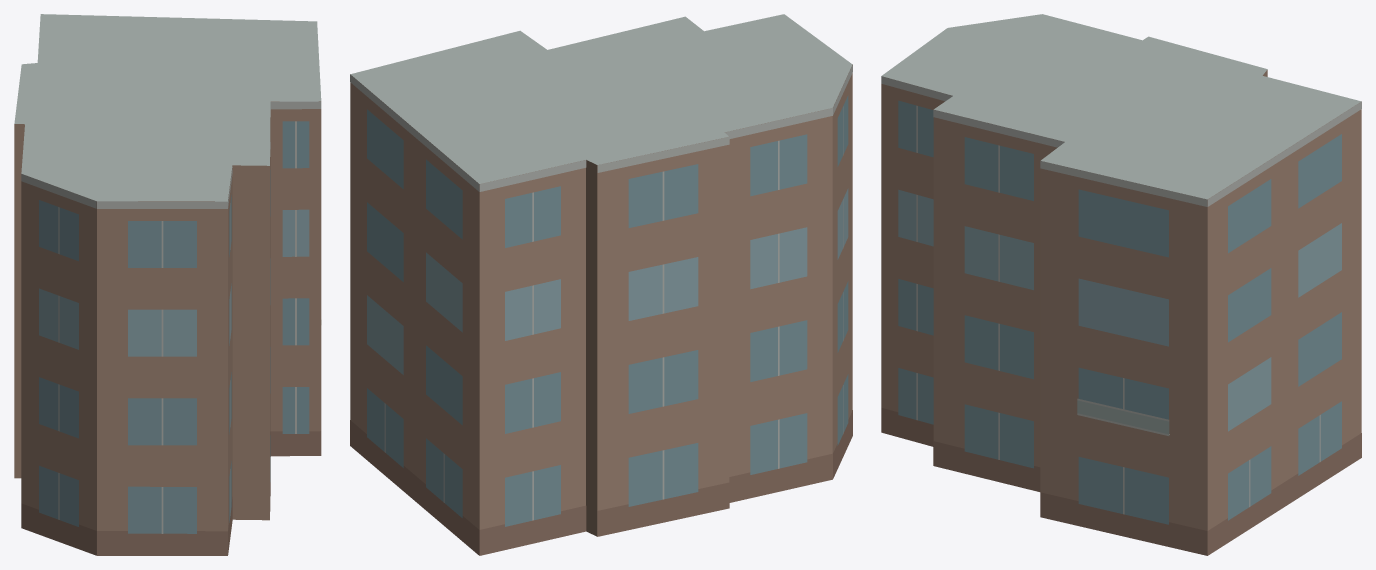
Rendered from survey-upis-32780967.glb.
3 renders of one model, left to right at view 1: azimuth 30°, elevation 25°; view 2: azimuth 150°, elevation 25°; view 3: azimuth 270°, elevation 25°, orthographic. The views are drawn at different scales.
Parts seen in each view (by area): view 1: survey-upis-32780967.tmp; view 2: survey-upis-32780967.tmp; view 3: survey-upis-32780967.tmp.
Part boxes in pixels (x1=…): survey-upis-32780967.tmp: x1=14, y1=14, x2=321, y2=555; survey-upis-32780967.tmp: x1=350, y1=14, x2=852, y2=555; survey-upis-32780967.tmp: x1=881, y1=14, x2=1361, y2=555.
Size of the model in its own units: 12.71 by 11.38 by 13.91.
